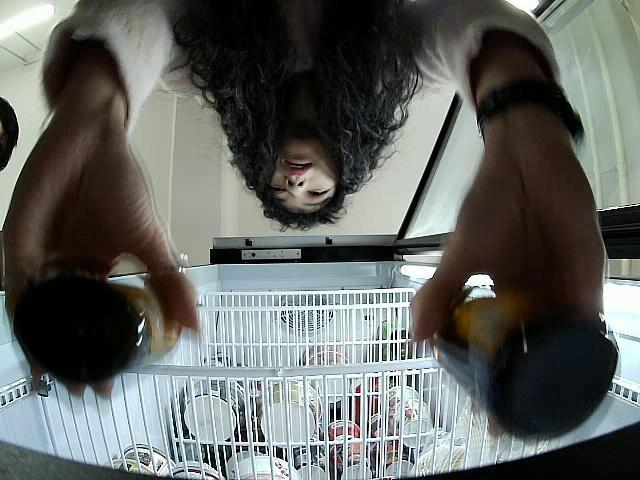17_vita500: (410, 274, 618, 441), (12, 256, 184, 384)
